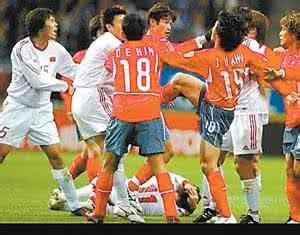fall: (38, 162, 206, 219)
